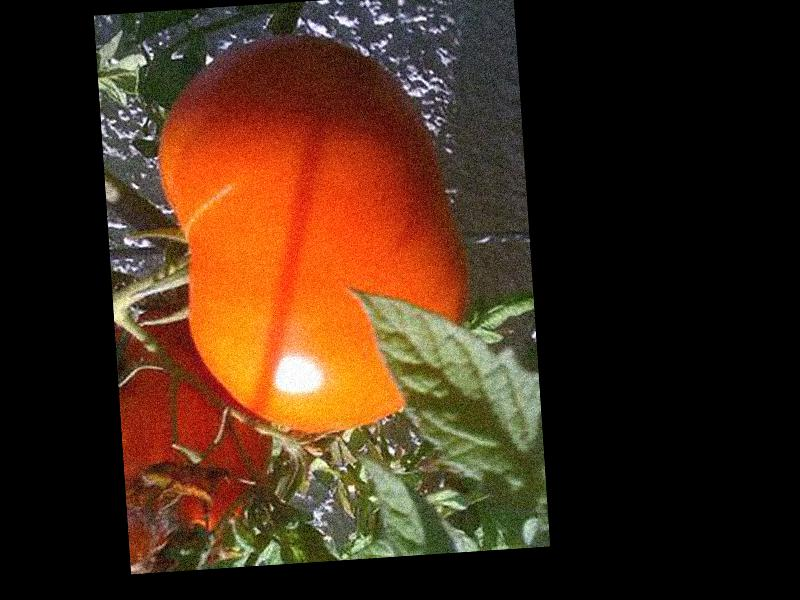Tomato: (150, 25, 475, 443)
